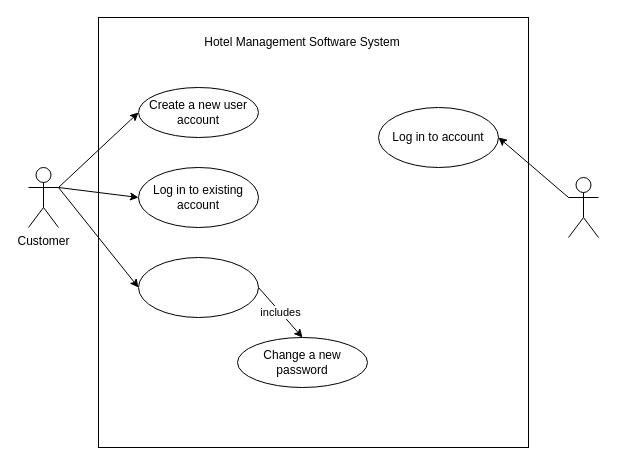
Image size: 636x465. Some labels were removed from this diagram. The centre of each missing label's shape, as x and y in pixels:
Administrator: (583,207)
Forgot password: (198,287)
